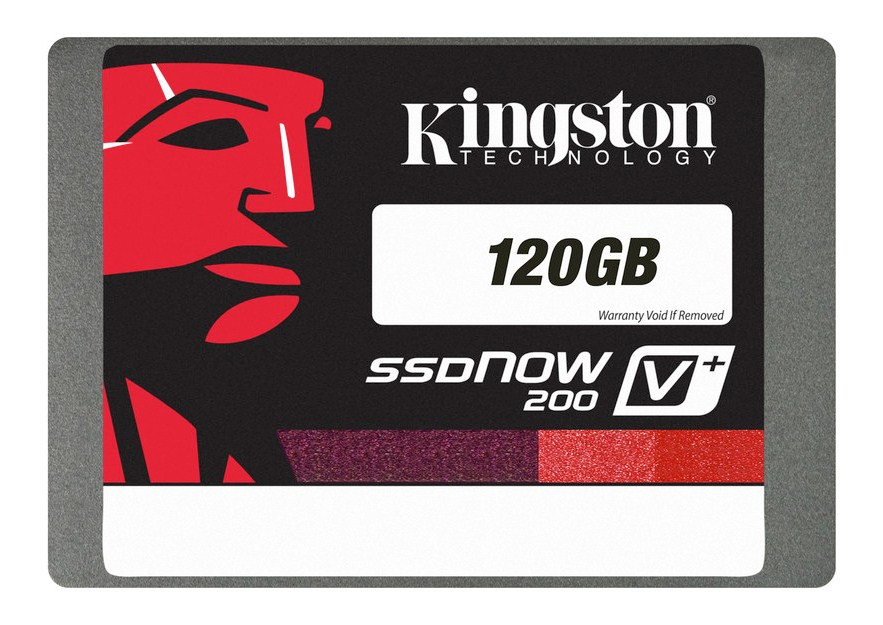Kingston: (91, 50, 348, 494), (378, 59, 729, 184)
